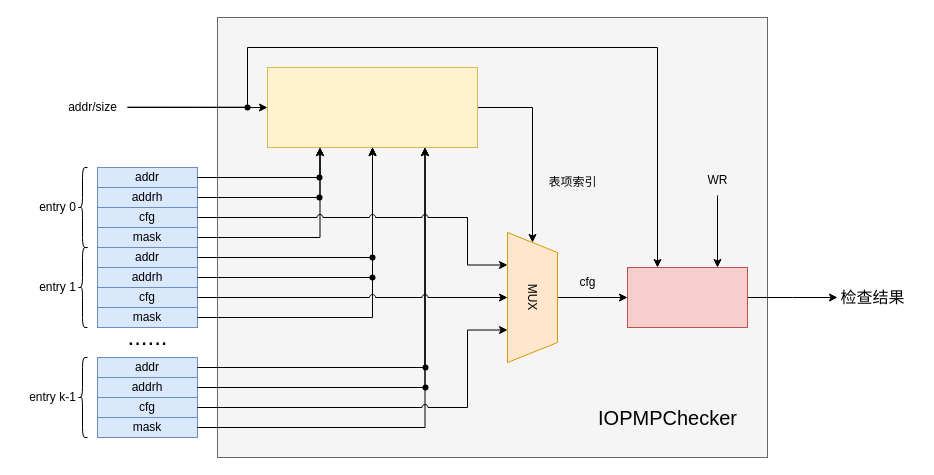
This 934x475 diagram has some shape labels left out. The centre of each missing label's shape, as x and y in pixels:
地址匹配: [372,107]
权限检查: [687,297]
